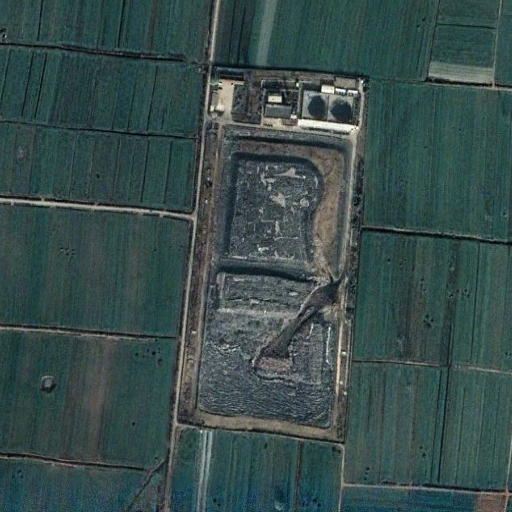lf: (195, 126, 357, 440)
